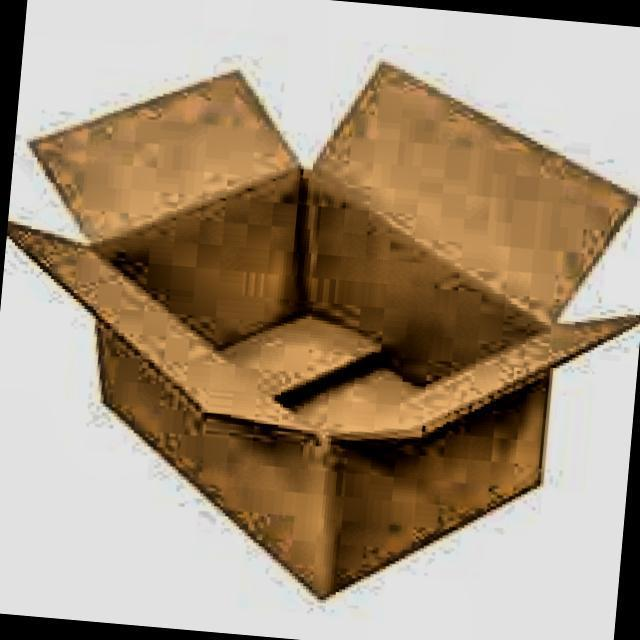cardboard: (0, 27, 640, 625)
